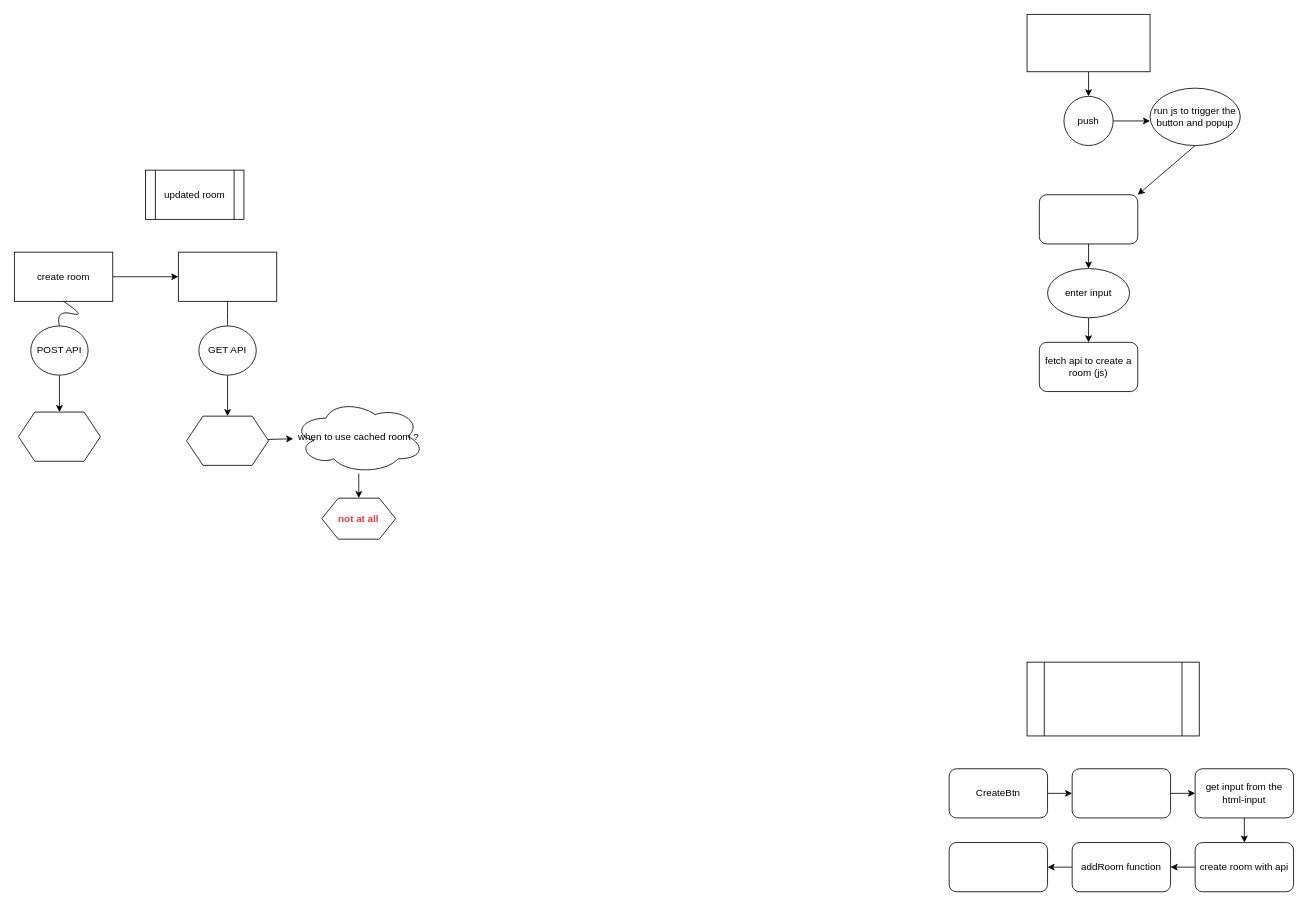
Some shapes in this 1308 by 906 pixel diagram are drawn without their labels. The shapes that lost their labels are listed below. From the top down, each one's box as (x1, y1, x2, y2) in pixels, then its label:
(1026, 14, 1150, 72): Create button
(1039, 194, 1138, 244): popup ask for input: room (html)
(178, 251, 277, 301): get rooms to show on the board
(18, 411, 100, 461): Room set in database
(186, 415, 269, 465): cached rooms
(1026, 661, 1199, 736): Create new room
(1071, 768, 1171, 818): Open modal
